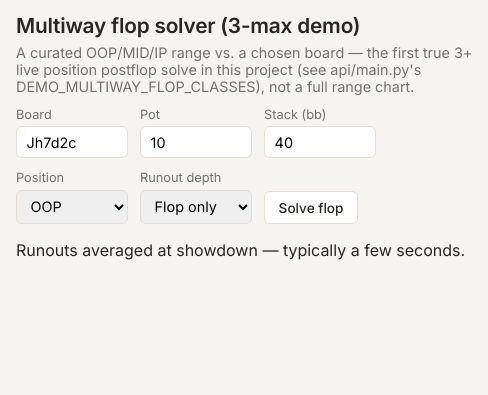
Test: MultiwayFlopSolver › clears a stale result when the depth changes
Click the button "Solve flop": (311, 208) [264, 191, 358, 224]
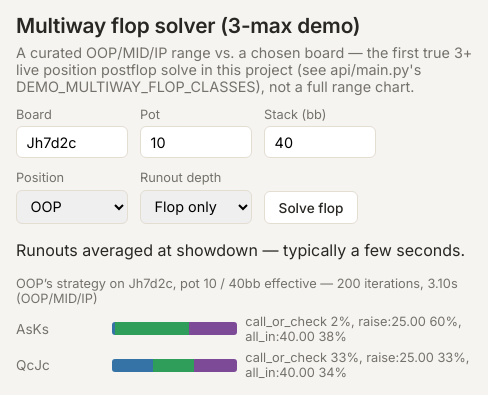
Now the text "AsKs" is shown, box [16, 321, 49, 337]
Select "Flop + turn" in the dropdown labelled "Runout depth": (196, 207) [140, 190, 252, 224]
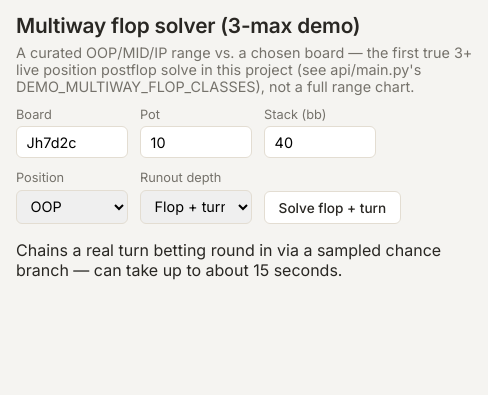
Now the text "AsKs" is gone
